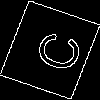C: (24, 25, 84, 76)
